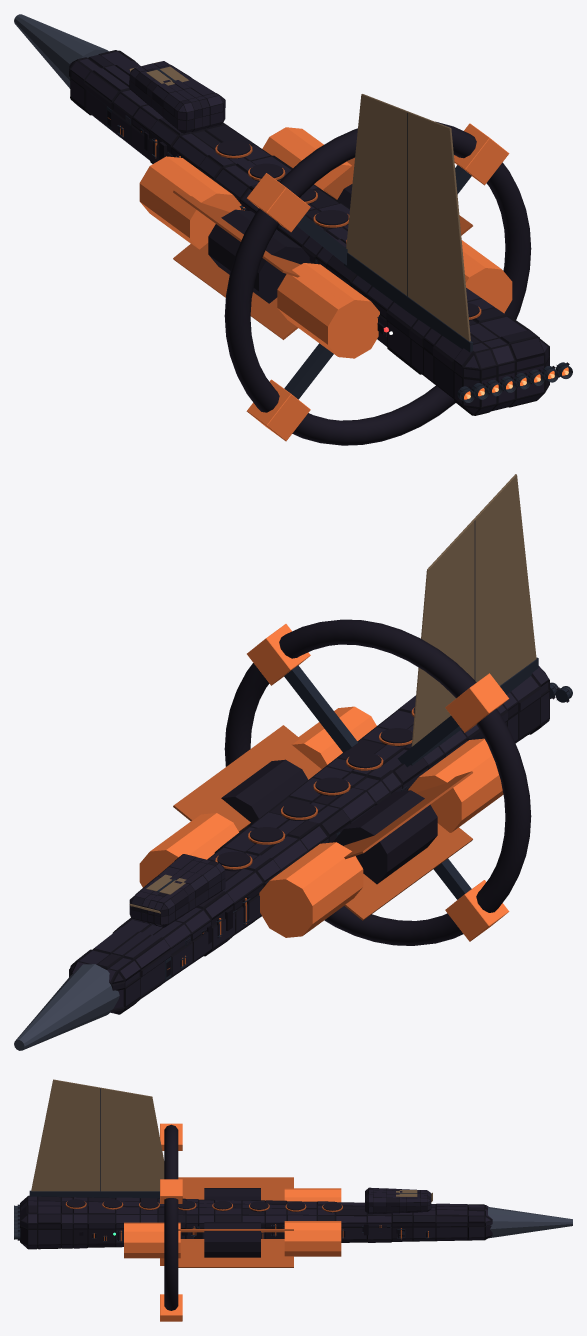
File: eclipse.glb
3 renders of one model, top to bottom at view 1: azimuth 30°, elevation 25°; view 2: azimuth 150°, elevation 25°; view 3: azimuth 270°, elevation 25°, orthographic. The views are drawn at different scales.
Visible parts, largest first — view 1: eclipse_mesh, ring_mesh; view 2: eclipse_mesh, ring_mesh; view 3: eclipse_mesh, ring_mesh.
Boxes of the visible parts, x1=… form: eclipse_mesh: x1=14, y1=14, x2=572, y2=415; ring_mesh: x1=224, y1=121, x2=531, y2=445; eclipse_mesh: x1=14, y1=474, x2=572, y2=1050; ring_mesh: x1=224, y1=619, x2=531, y2=945; eclipse_mesh: x1=14, y1=1079, x2=572, y2=1267; ring_mesh: x1=160, y1=1123, x2=182, y2=1321.
Bounding box in the file's own units: 37.32 × 46.83 × 106.
